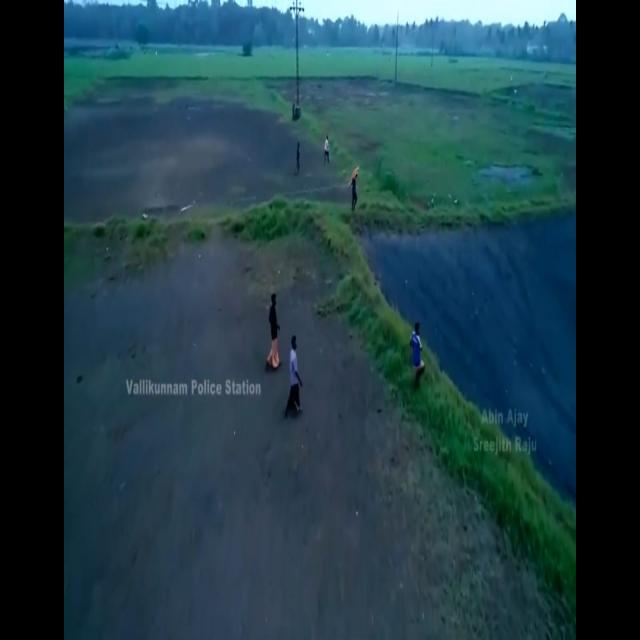humans: (283, 328, 307, 429), (265, 283, 283, 378), (405, 316, 427, 392), (345, 159, 362, 218), (290, 130, 304, 183), (322, 129, 333, 172)
